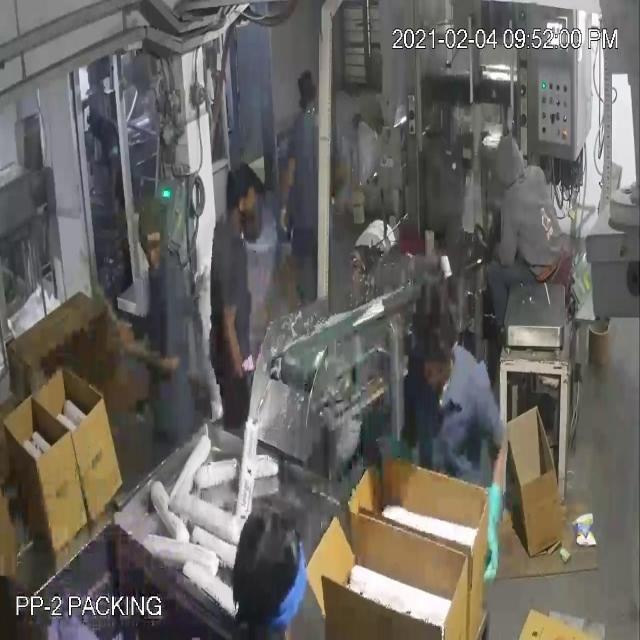No_Gloves: (20, 94, 495, 533)
